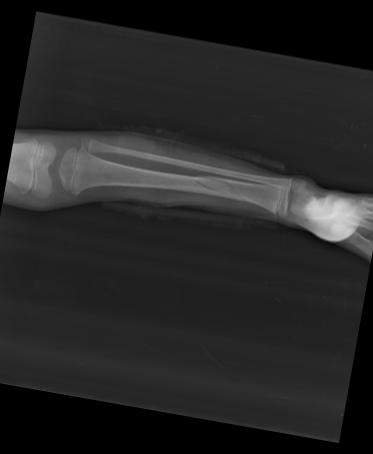fractured: (185, 173, 251, 204)
